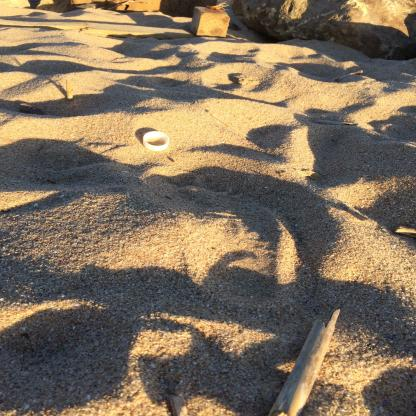trash: (139, 128, 175, 154)
